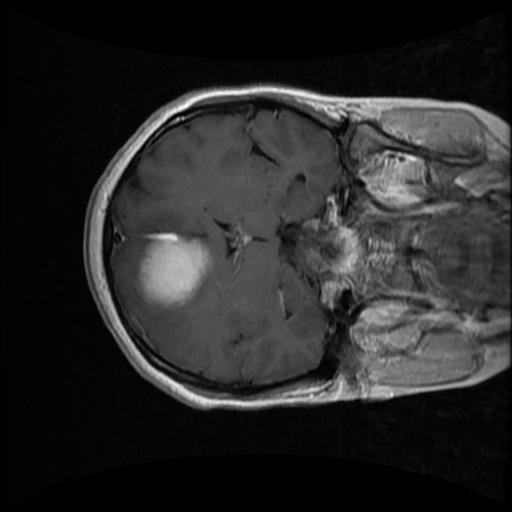meningioma: (138, 235, 212, 308)
